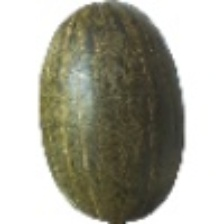honeydew: (58, 13, 195, 178)
